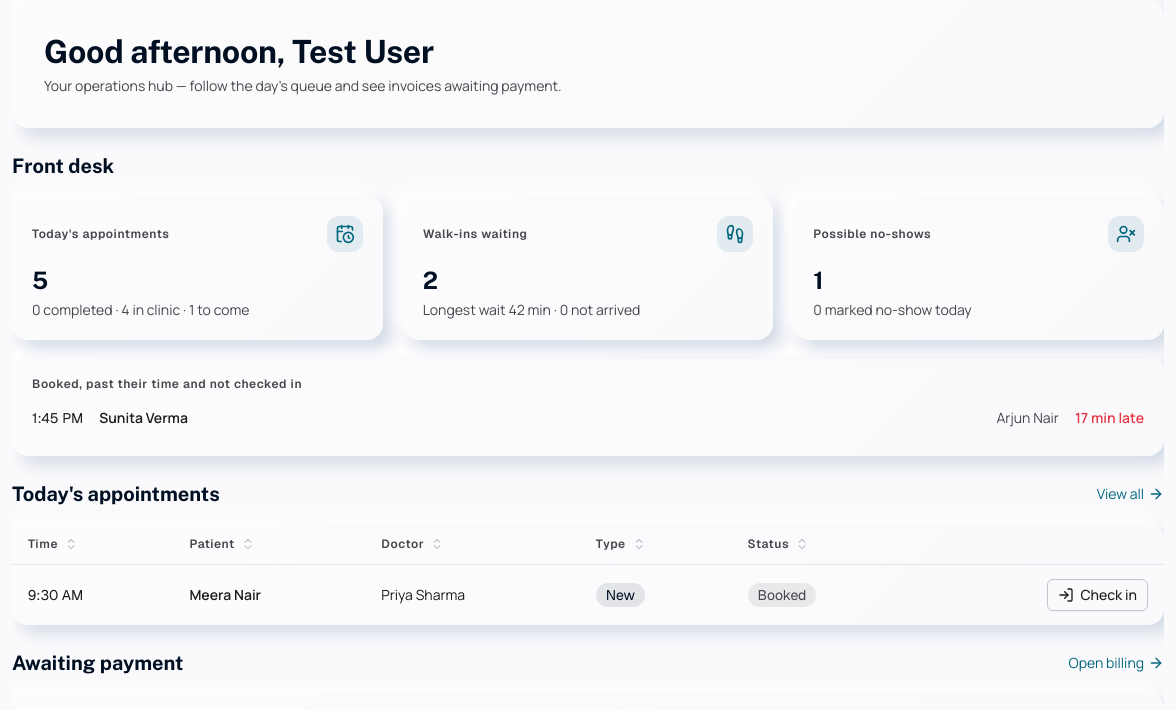
dashboard: figures after a write › reads the reception dashboard again after a check-in
Expected: the text "Longest wait 42 min · 0 not arrived" is shown, left=423, top=300, right=640, bottom=319
What coordinates should you click on to do the following:
click the button with aria-label "Check in Meera Nair"
I would click on:
 (1098, 595)
Its box is left=1047, top=579, right=1148, bottom=611.
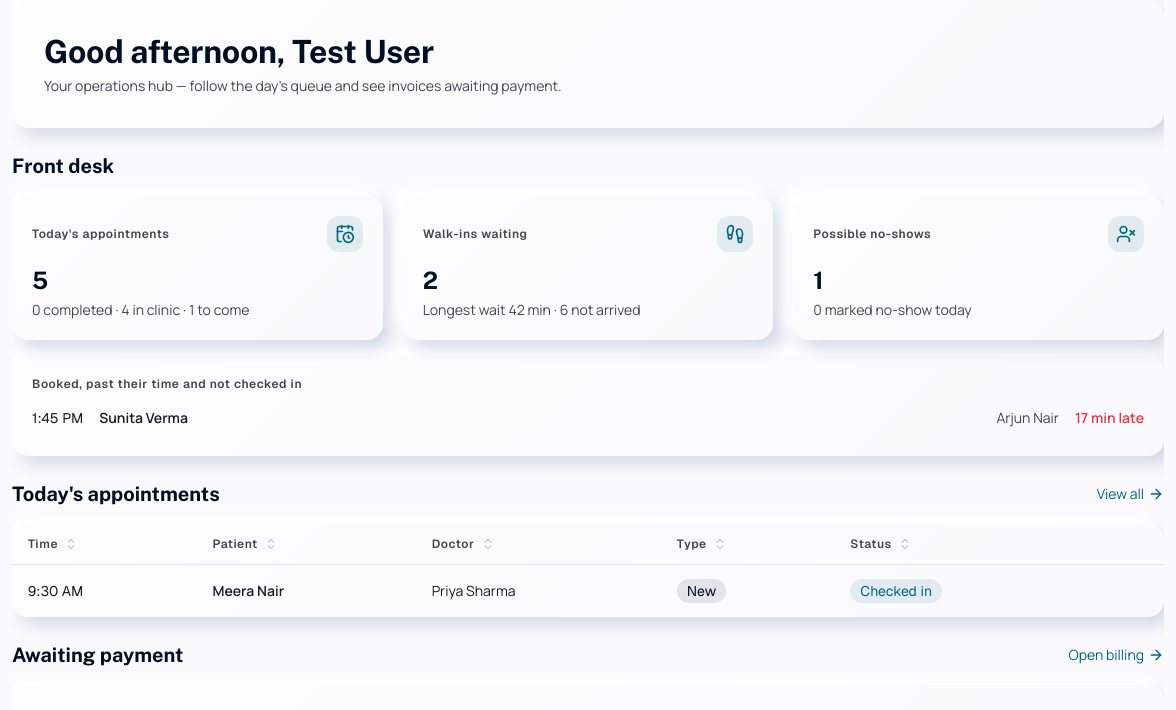
Expected: the text "Longest wait 42 min · 6 not arrived" is shown, left=423, top=300, right=641, bottom=319
